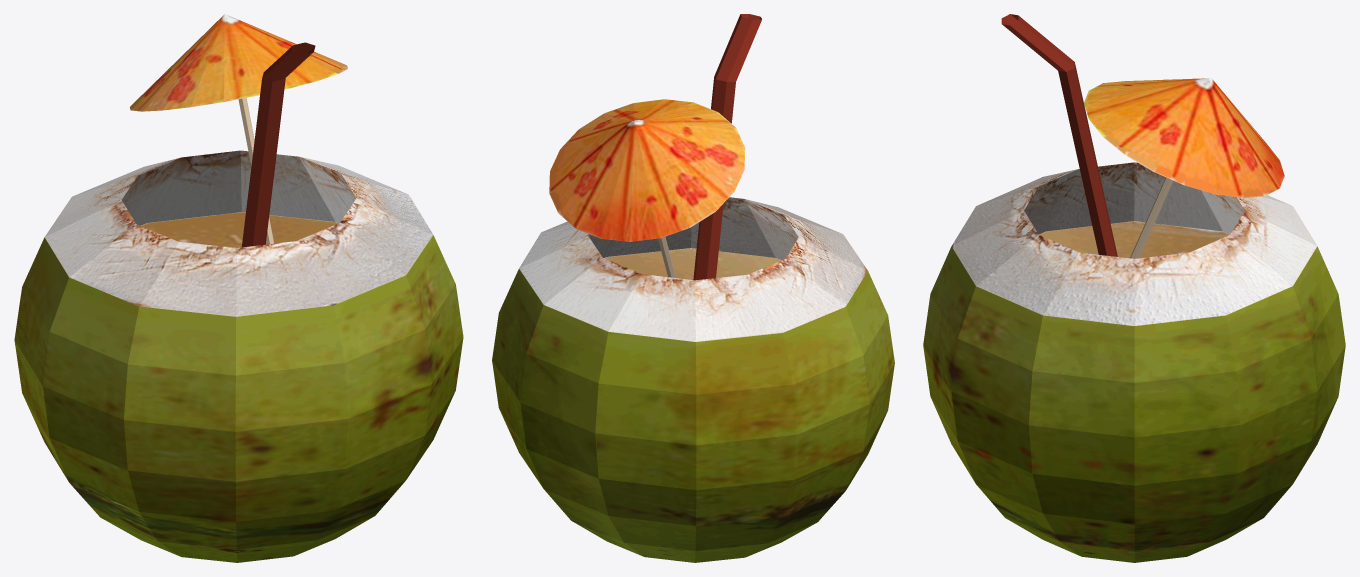
Rendered from CoconutDrink2.fbx.
3 renders of one model, left to right at view 1: azimuth 30°, elevation 25°; view 2: azimuth 150°, elevation 25°; view 3: azimuth 270°, elevation 25°, orthographic. The views are drawn at different scales.
Visible parts, largest first — view 1: CoconutDrink; view 2: CoconutDrink; view 3: CoconutDrink.
Boxes of the visible parts, left/top/right/bottom form: CoconutDrink: left=14, top=14, right=463, bottom=562; CoconutDrink: left=492, top=14, right=894, bottom=562; CoconutDrink: left=923, top=14, right=1345, bottom=562.
Size of the model in its own units: 1.86 by 2.46 by 1.79.
Materials: 1 (1 with a texture image).
